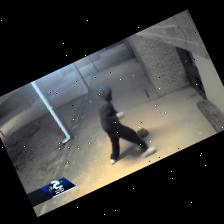person: (97, 86, 155, 164)
